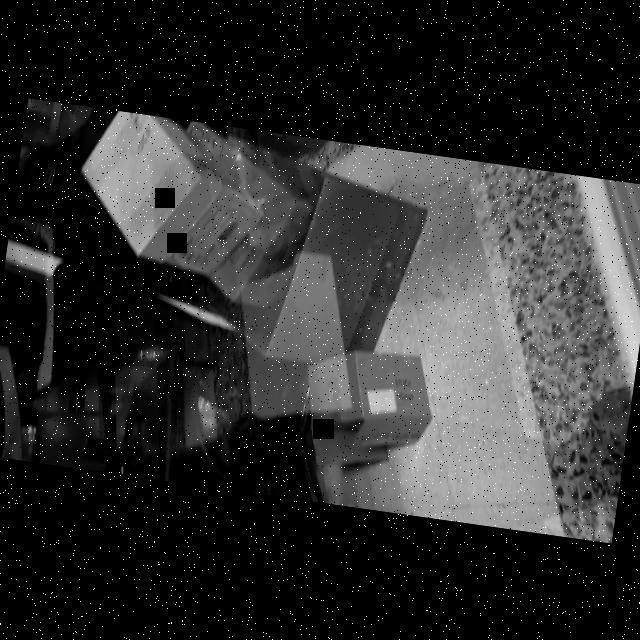cardboard_box: (200, 156, 428, 379), (140, 117, 344, 315), (65, 106, 275, 284), (286, 348, 427, 478)
